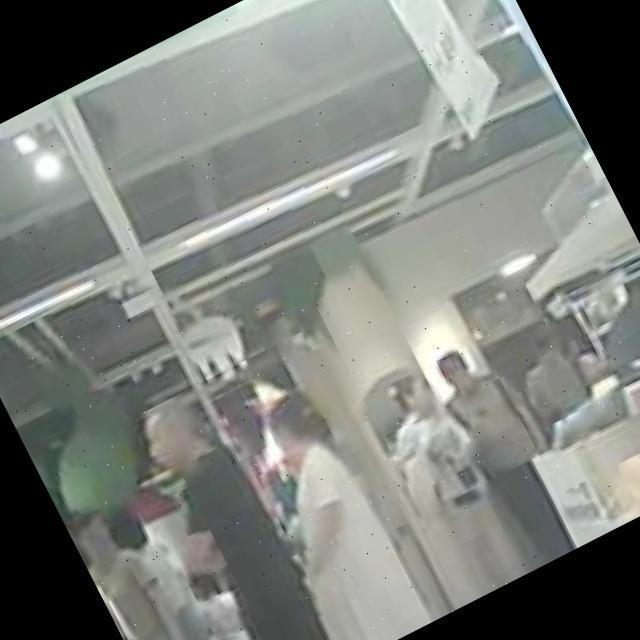person: (115, 381, 344, 640), (212, 380, 435, 640), (417, 328, 599, 576), (360, 354, 533, 602), (65, 496, 235, 640), (115, 523, 254, 640), (504, 323, 602, 432)
